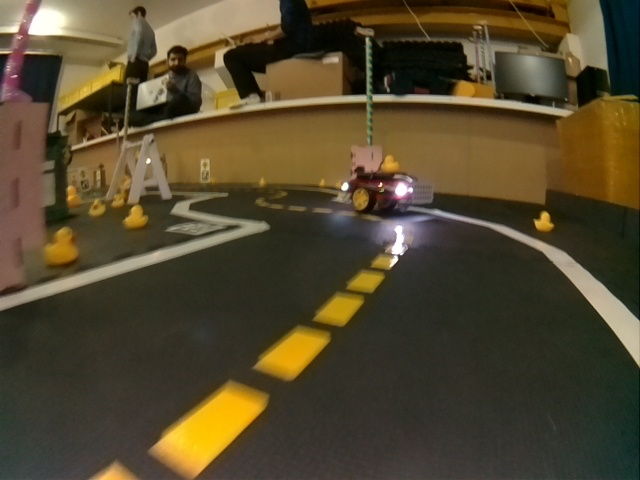Duckie: (46, 228, 79, 265), (123, 206, 147, 227), (534, 211, 554, 232), (66, 186, 82, 206), (381, 156, 400, 172), (89, 200, 104, 215), (114, 194, 124, 207)
Duckiebot: (346, 166, 433, 212)
QR code: (166, 222, 224, 235)
